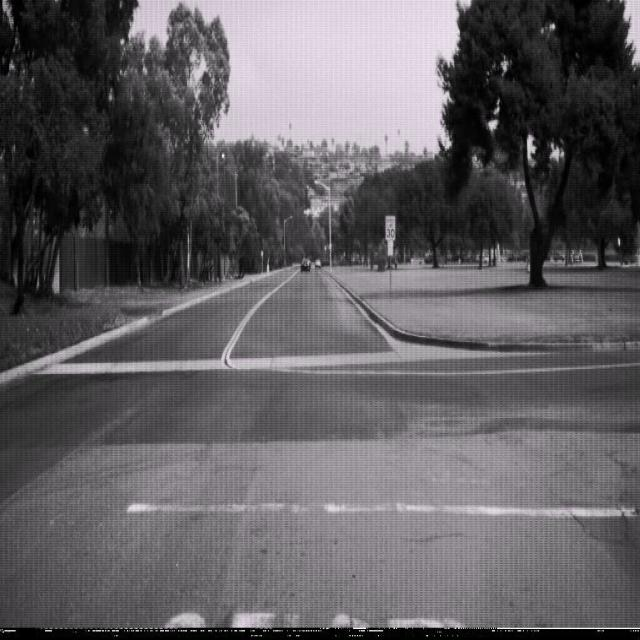speedLimit30: (384, 213, 396, 240)
